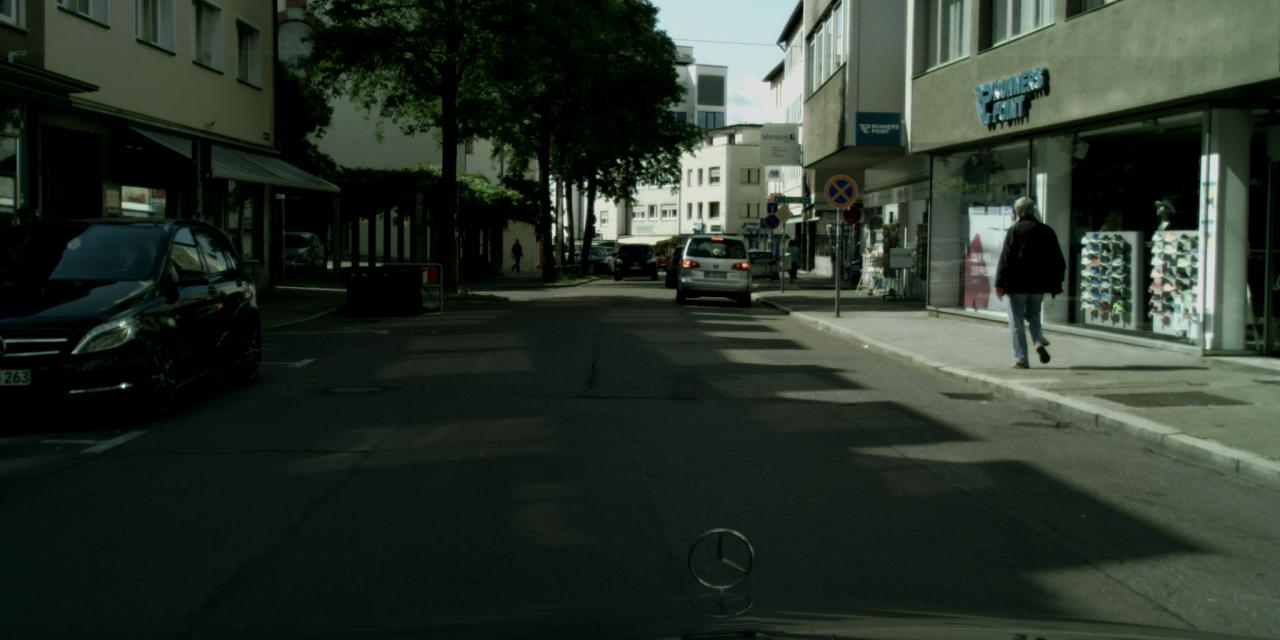ped: (994, 196, 1064, 364), (0, 206, 50, 326), (782, 239, 799, 282), (786, 236, 803, 278), (509, 238, 522, 270)
